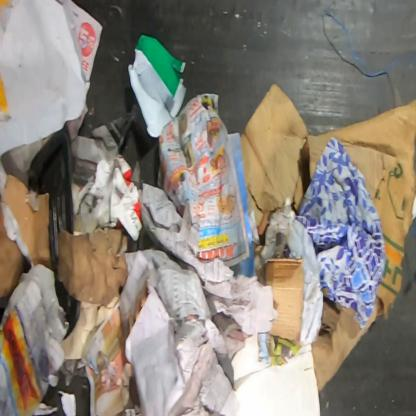cardboard: (240, 79, 415, 397), (56, 223, 130, 309), (0, 172, 49, 299), (255, 255, 305, 346)
rigid_plastic: (28, 128, 76, 341), (126, 32, 188, 140)
